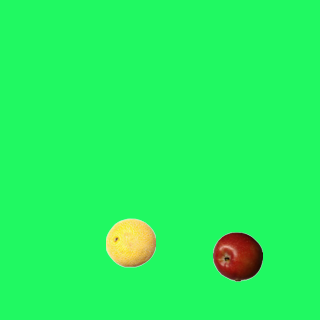Apple Braeburn: (212, 231, 262, 281)
Cantaloupe 1: (105, 217, 155, 267)
